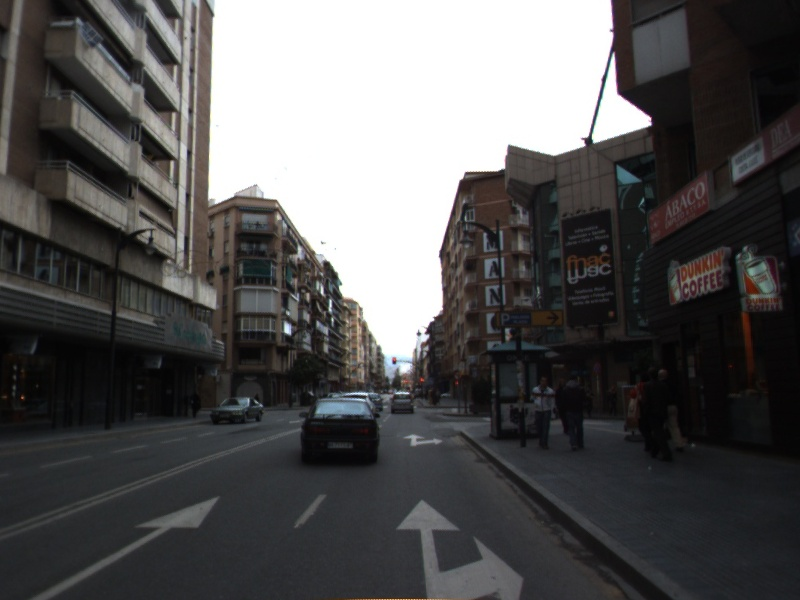STRAIGHT: (24, 493, 222, 600)
STRAIGHT_RIGHT: (394, 497, 526, 600), (401, 433, 445, 448)
